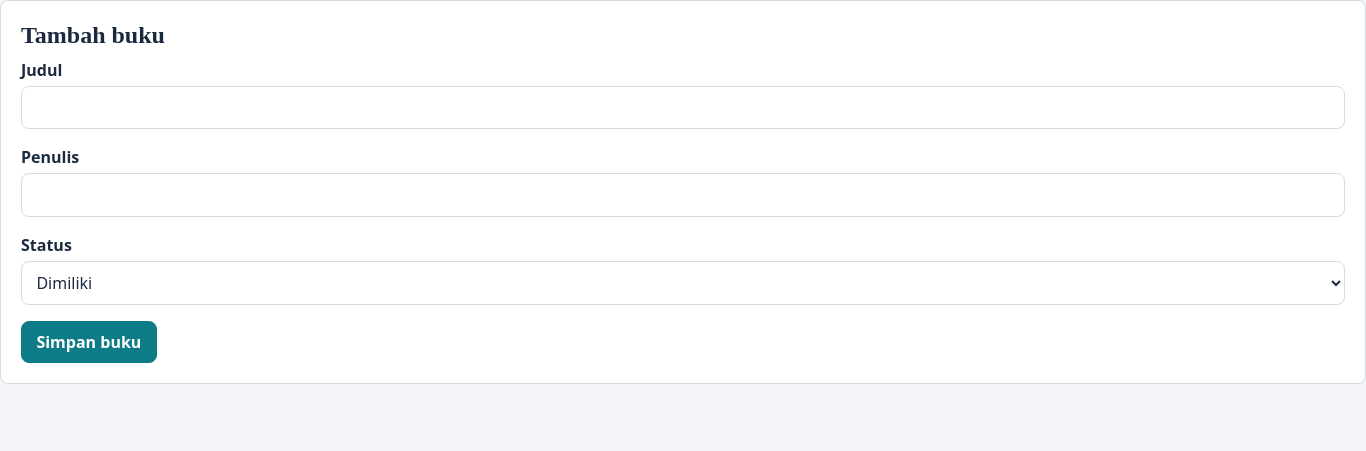
Test: BookForm › menampilkan error dan tidak submit saat kolom kosong
Click the button "Simpan buku": (89,342) left=21, top=321, right=157, bottom=363
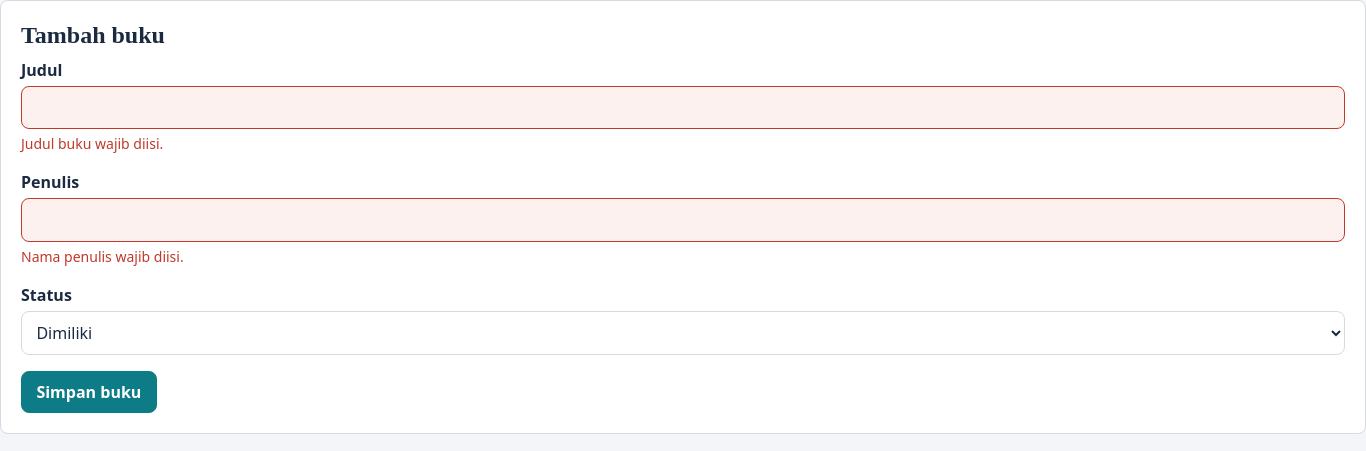
Check: the text "Judul buku wajib diisi." is shown, box left=21, top=134, right=163, bottom=153
Check: the text "Nama penulis wajib diisi." is shown, box left=21, top=247, right=184, bottom=266
